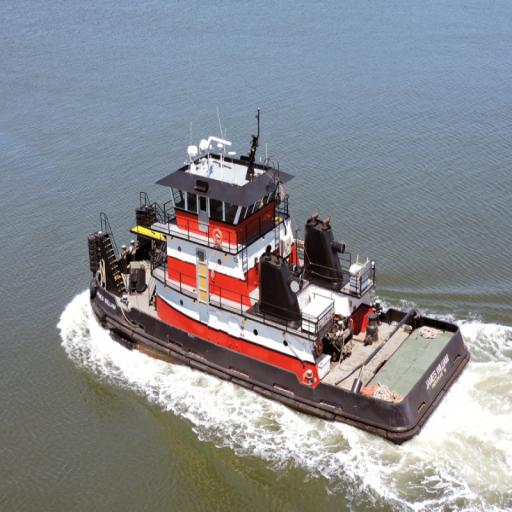tugboat: (85, 105, 474, 448)
